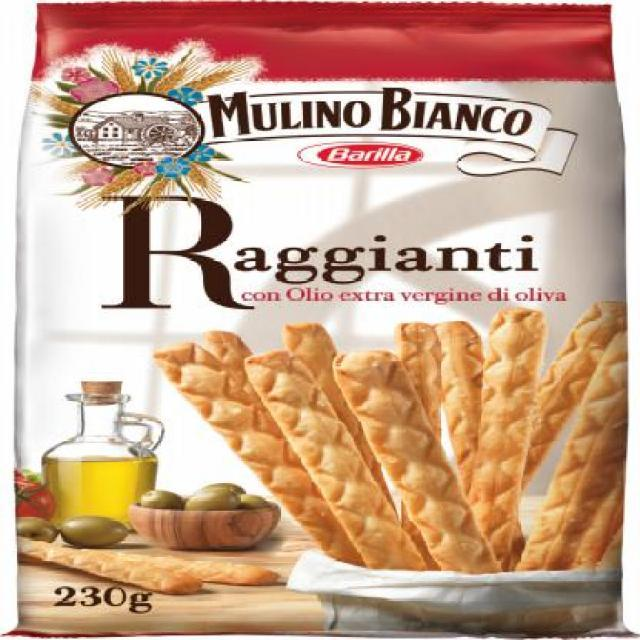Grissini: (325, 308, 567, 566)
